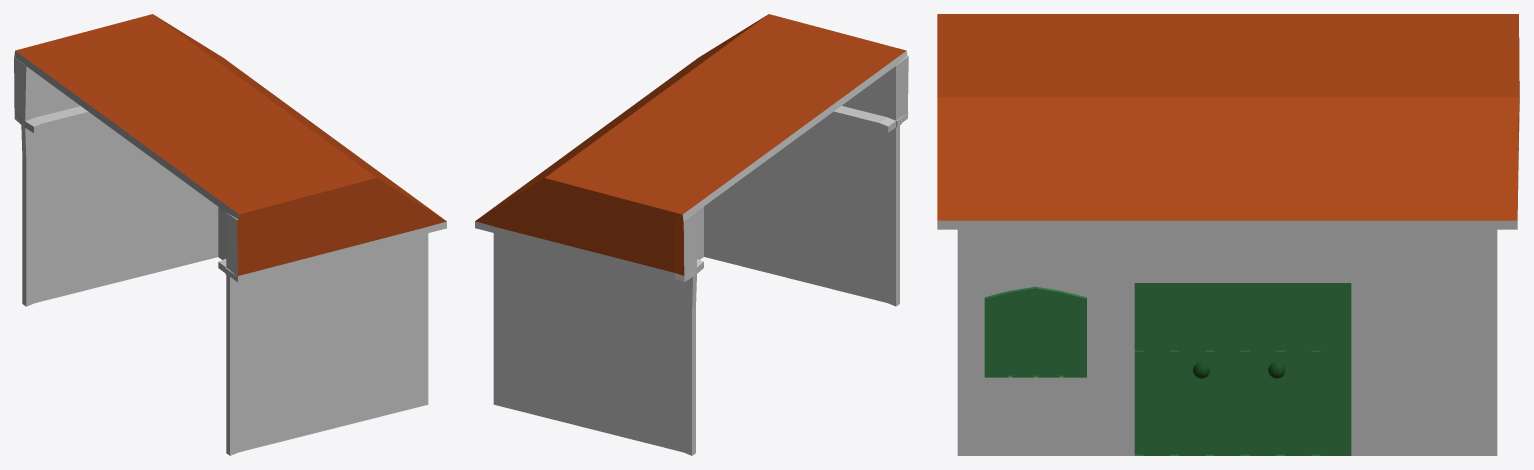
File: Door.fbx
3 renders of one model, left to right at view 1: azimuth 30°, elevation 25°; view 2: azimuth 150°, elevation 25°; view 3: azimuth 270°, elevation 25°, orthographic. The views are drawn at different scales.
Visible parts, largest first — view 1: Door; view 2: Door; view 3: Door.
Part boxes in pixels (bbox=[...]): Door: bbox=[14, 14, 446, 455]; Door: bbox=[475, 14, 908, 455]; Door: bbox=[937, 14, 1519, 455].
Size of the model in its own units: 506 by 575 by 936.
